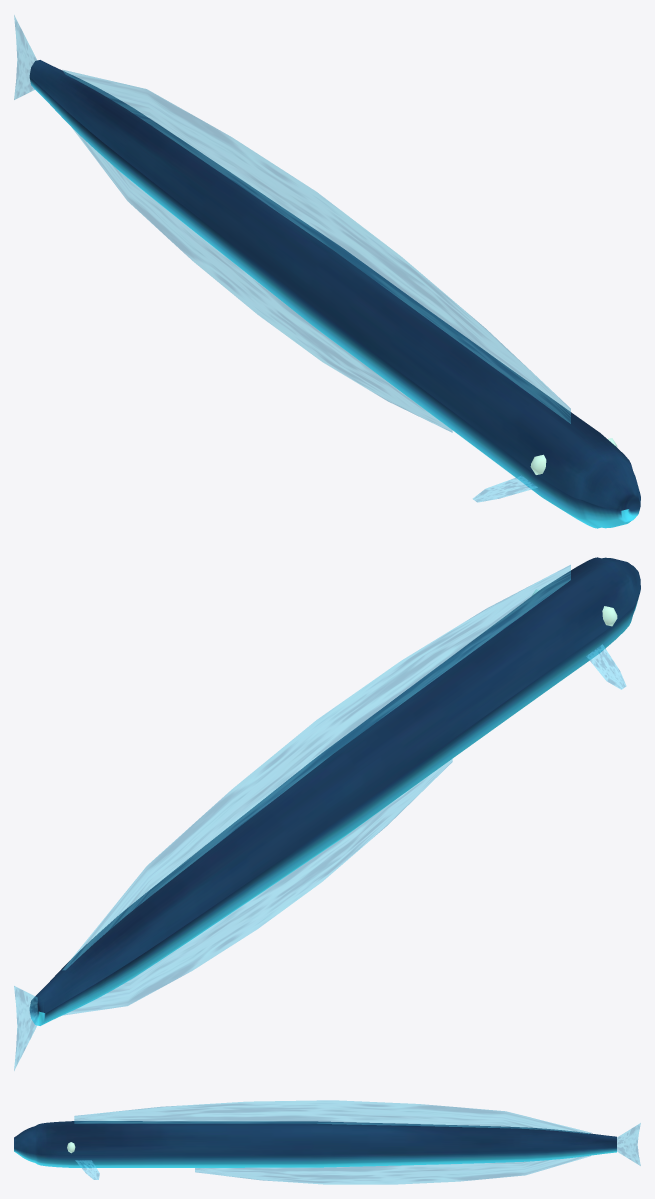
File: alien_lumen_eel.glb
3 views of the same model, one above another, from view 1: azimuth 30°, elevation 25°; view 2: azimuth 150°, elevation 25°; view 3: azimuth 270°, elevation 25° (orthographic). The views are drawn at different scales.
Size of the model in its own units: 0.465 by 0.495 by 3.33.
Materials: 2 (2 with a texture image).
